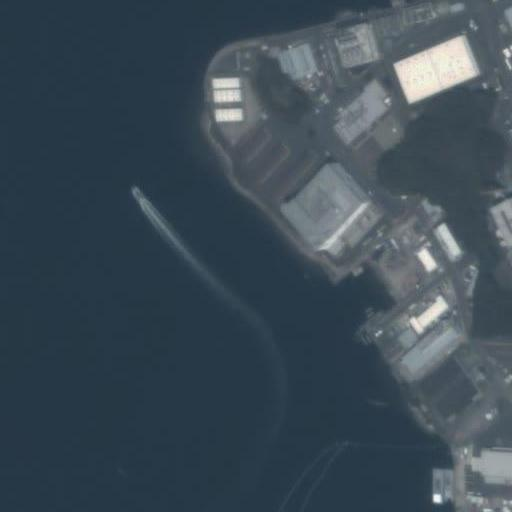person: (131, 186, 144, 202)
